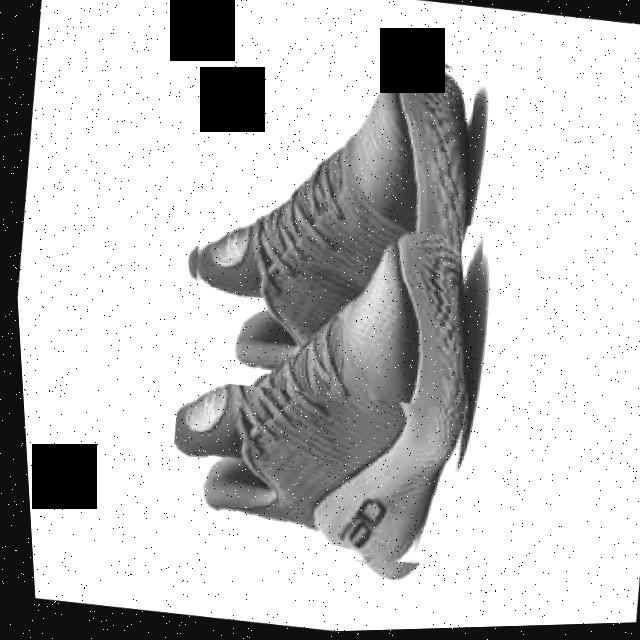shoe: (142, 190, 499, 592), (160, 28, 492, 417)
